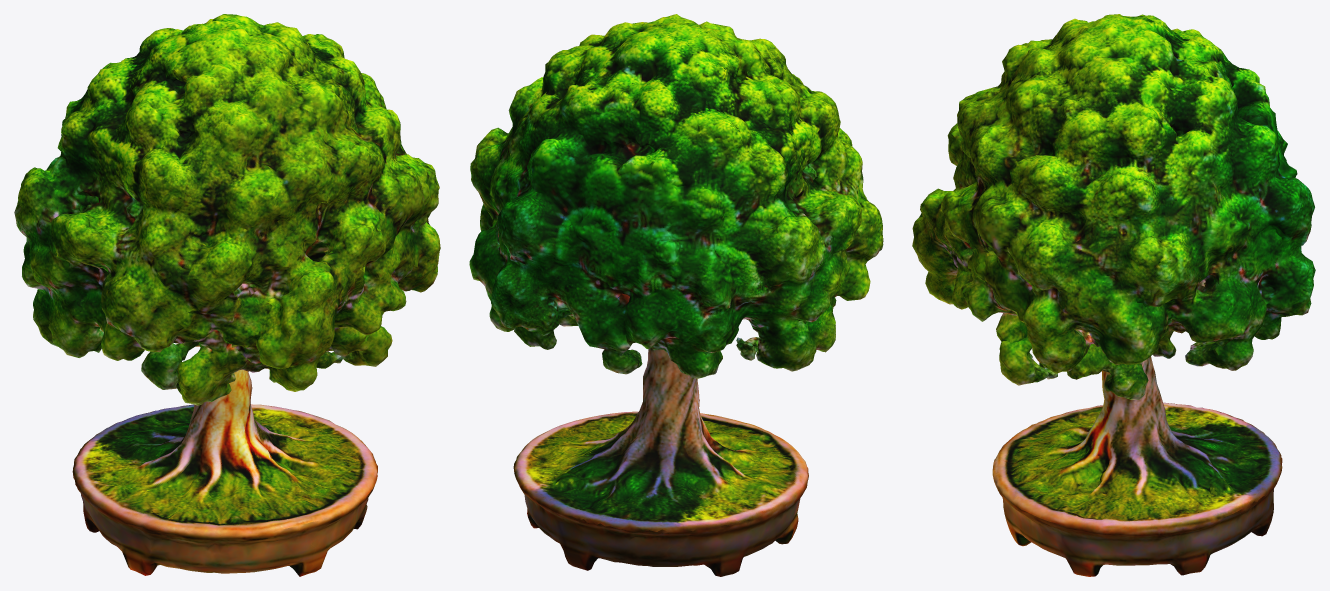
Rendered from green_tree.glb.
The picture shows the model from 3 angles, left to right: view 1: azimuth 30°, elevation 25°; view 2: azimuth 150°, elevation 25°; view 3: azimuth 270°, elevation 25°; orthographic projection. The views are drawn at different scales.
Visible parts, largest first — view 1: mesh.obj_1; view 2: mesh.obj_1; view 3: mesh.obj_1.
Boxes of the visible parts, box(x1,y1,x2,y2) form: mesh.obj_1: box(14, 14, 440, 576); mesh.obj_1: box(469, 14, 883, 576); mesh.obj_1: box(912, 14, 1315, 576).
Size of the model in its own units: 1.09 by 1.44 by 1.04.
Materials: 1 (1 with a texture image).
